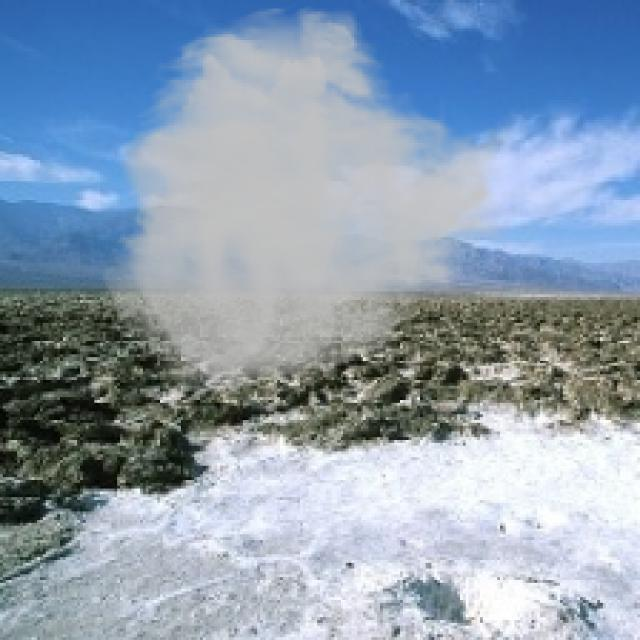Smoke: (100, 2, 520, 398)
